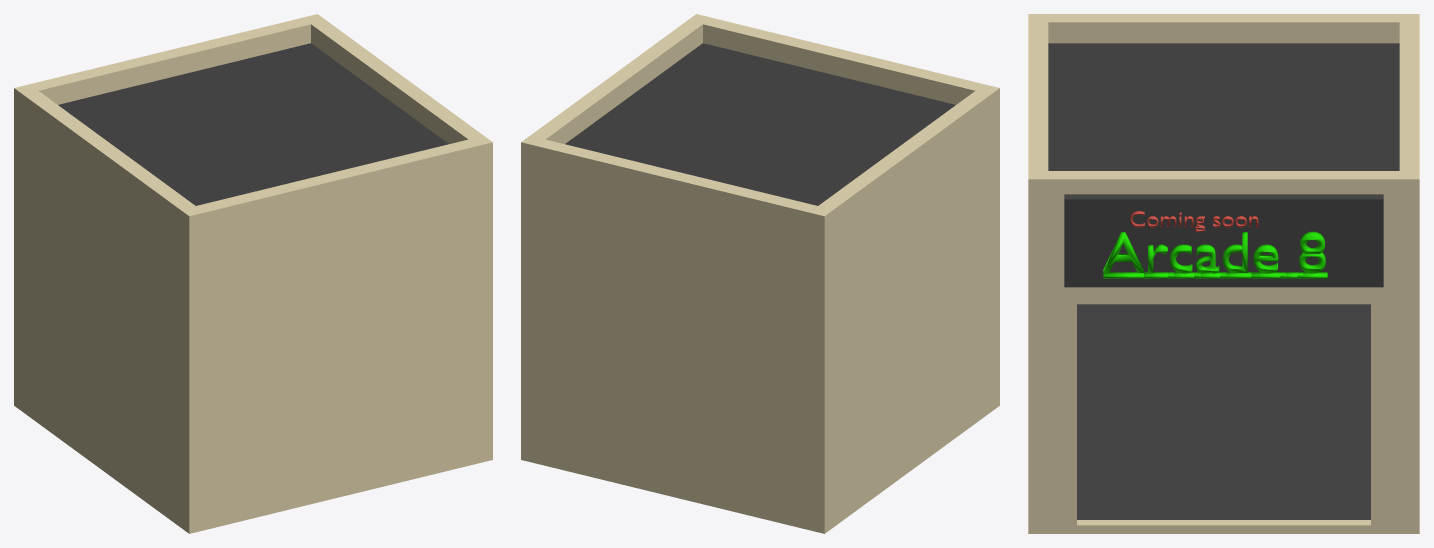
File: Haus2.fbx
The picture shows the model from 3 angles, left to right: view 1: azimuth 30°, elevation 25°; view 2: azimuth 150°, elevation 25°; view 3: azimuth 270°, elevation 25°; orthographic projection. The views are drawn at different scales.
Visible parts, largest first — view 1: Strandhaus; view 2: Strandhaus; view 3: Strandhaus, GaragenTor, SCHILD, ARCADE 8 TEXT, CoMINGTEXT.
Part boxes in pixels (left/top/right/bottom): Strandhaus: left=14, top=14, right=492, bottom=533; Strandhaus: left=521, top=14, right=999, bottom=533; Strandhaus: left=1028, top=14, right=1419, bottom=533; GaragenTor: left=1077, top=304, right=1370, bottom=519; SCHILD: left=1064, top=194, right=1383, bottom=287; ARCADE 8 TEXT: left=1103, top=231, right=1327, bottom=278; CoMINGTEXT: left=1130, top=211, right=1258, bottom=232.
Bounding box in the file's own units: 210 × 201 × 200.
